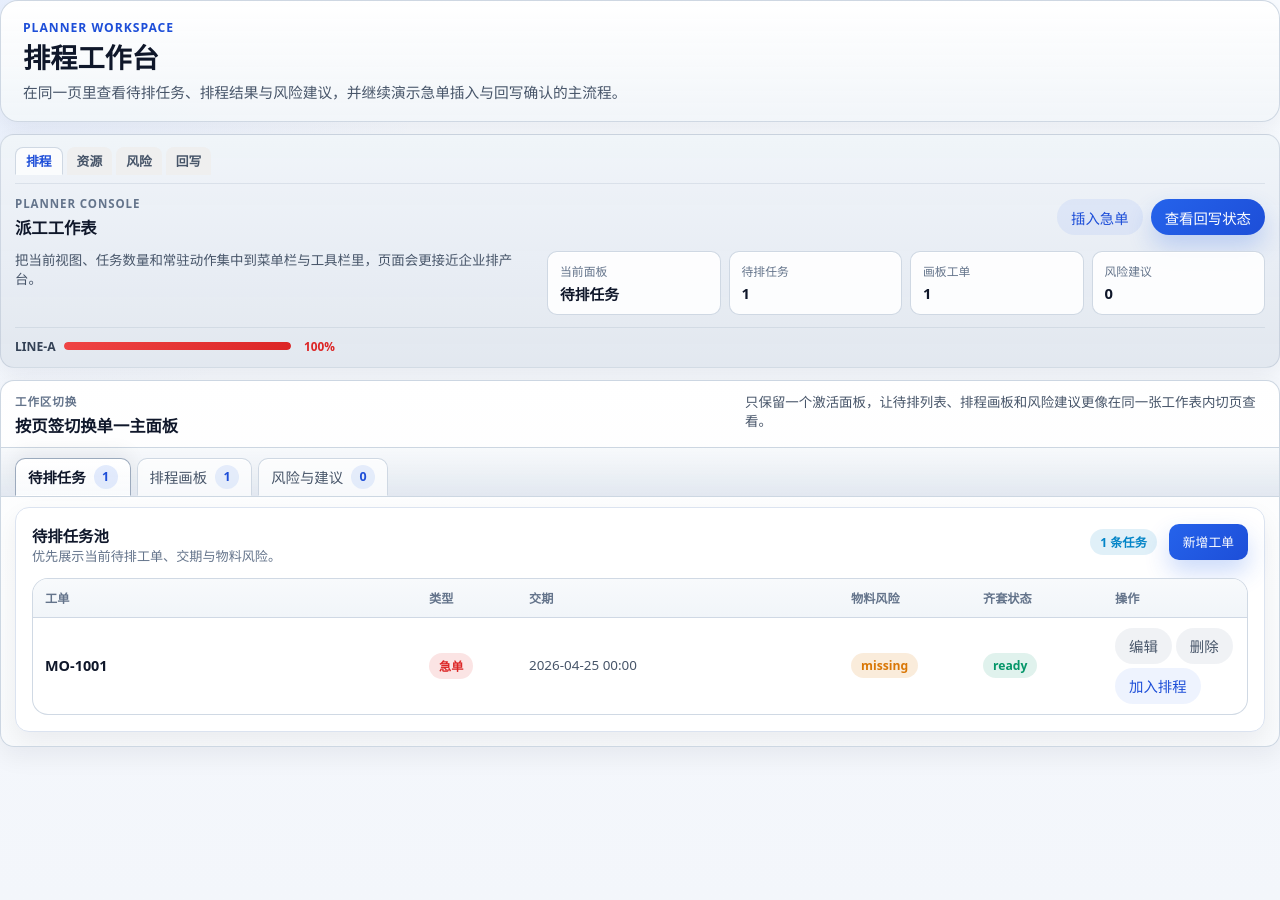
PlannerWorkbenchView integration › 加入排程后会清空旧回写状态并避免沿用过期结果版本
This screenshot has width=1280, height=900.
What coordinates should you click on to do the following:
click the button with test id "add-to-schedule-MO-1001"
I would click on:
 (1158, 686)
Its box is [1115, 668, 1201, 704].
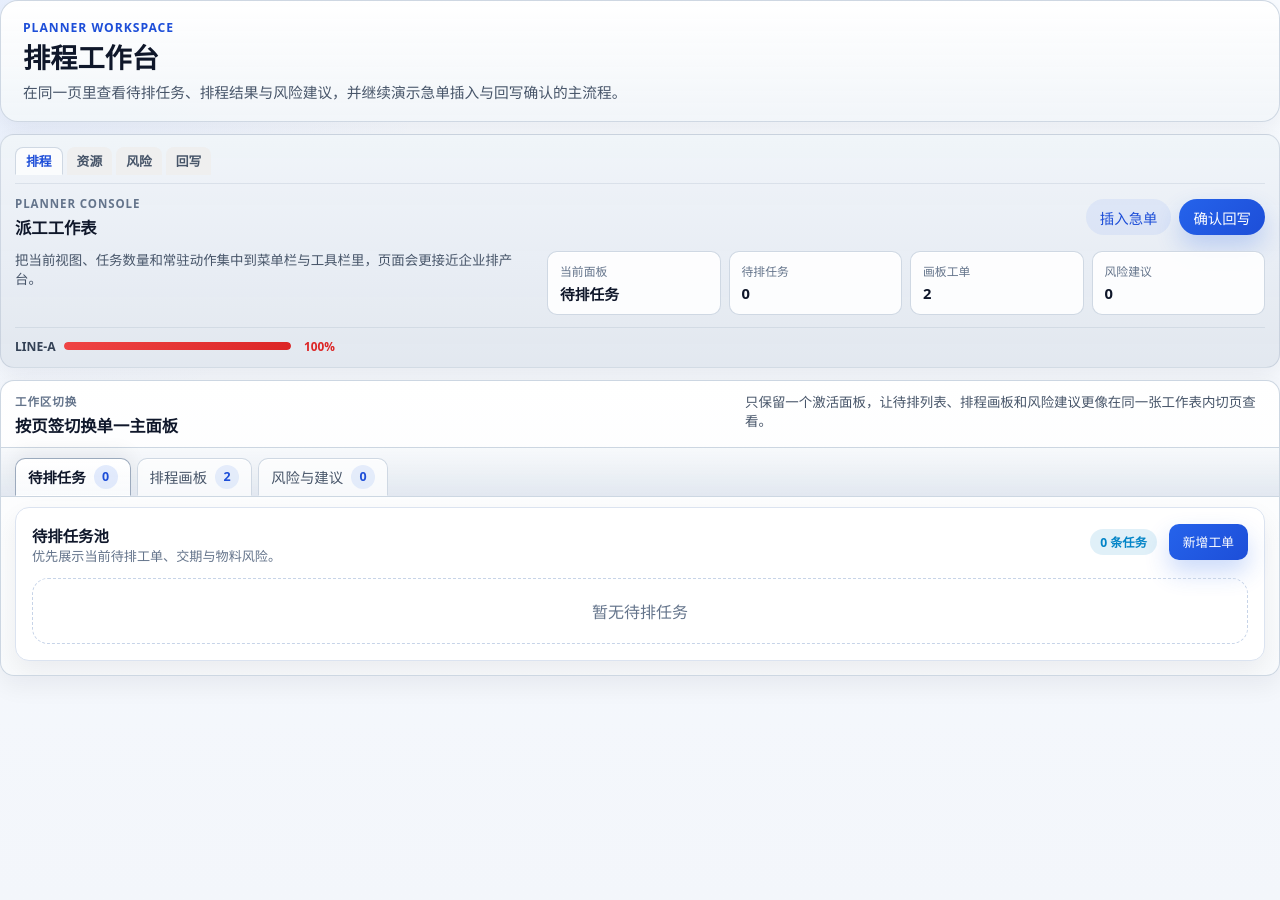
Check: the button with test id "open-publish-dialog" reads "确认回写", box [1179, 199, 1265, 235]
